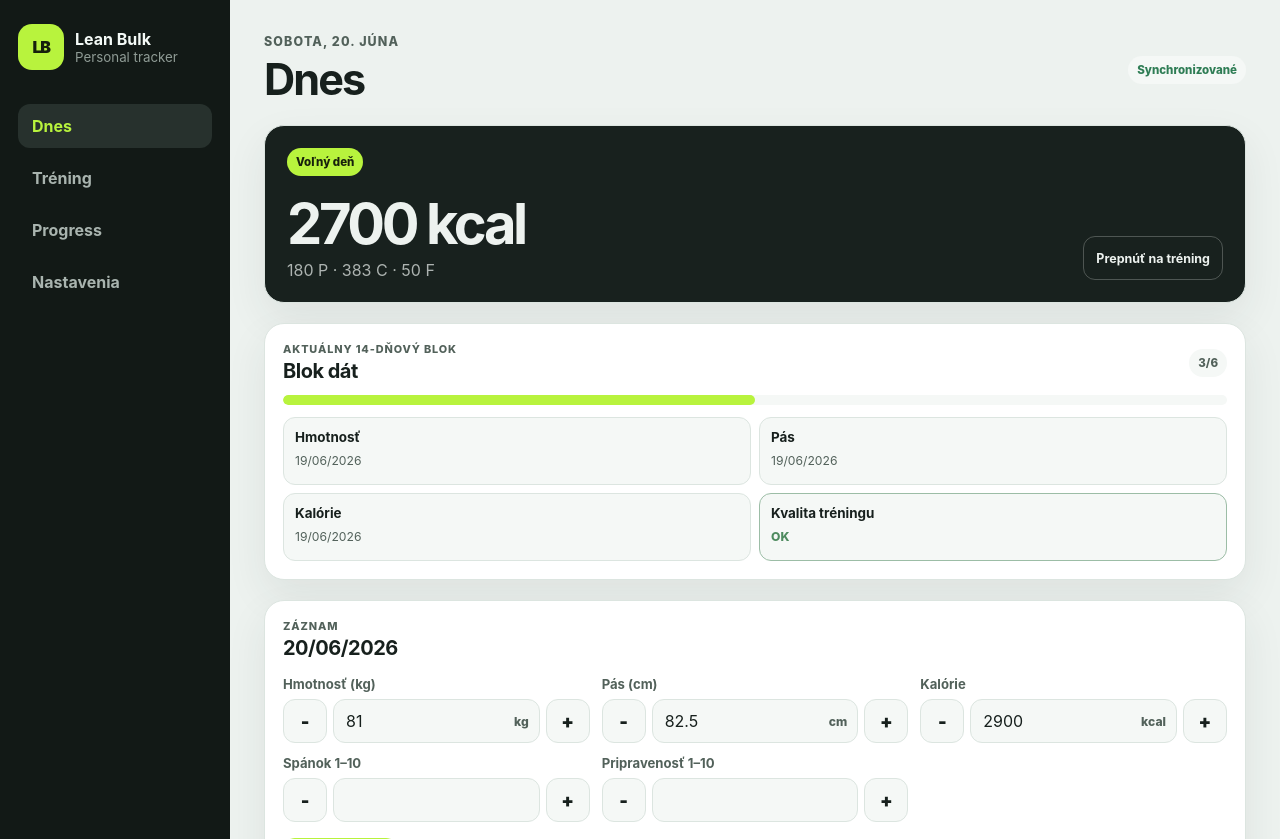
Scenario: App demo mode › shows selectable weight, waist, calorie and exercise-strength charts
Click the button "Progress".
click(115, 230)  # box [18,208,212,252]
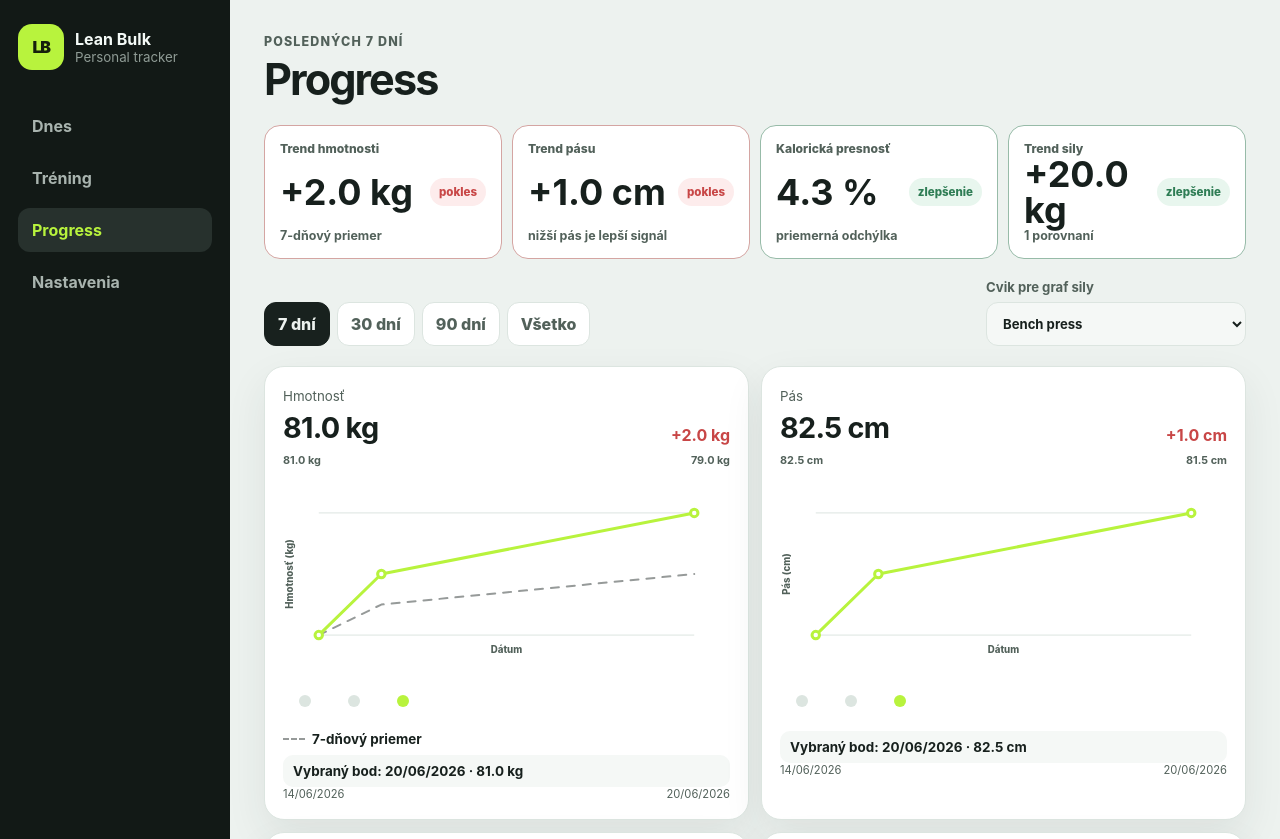
expect the button "30 dní" is shown: met, box [337,302,415,346]
expect the button "90 dní" is shown: met, box [422,302,500,346]
expect the button "Všetko" is shown: met, box [507,302,590,346]
